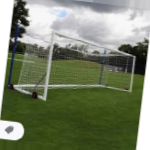goals: (13, 29, 136, 105)
